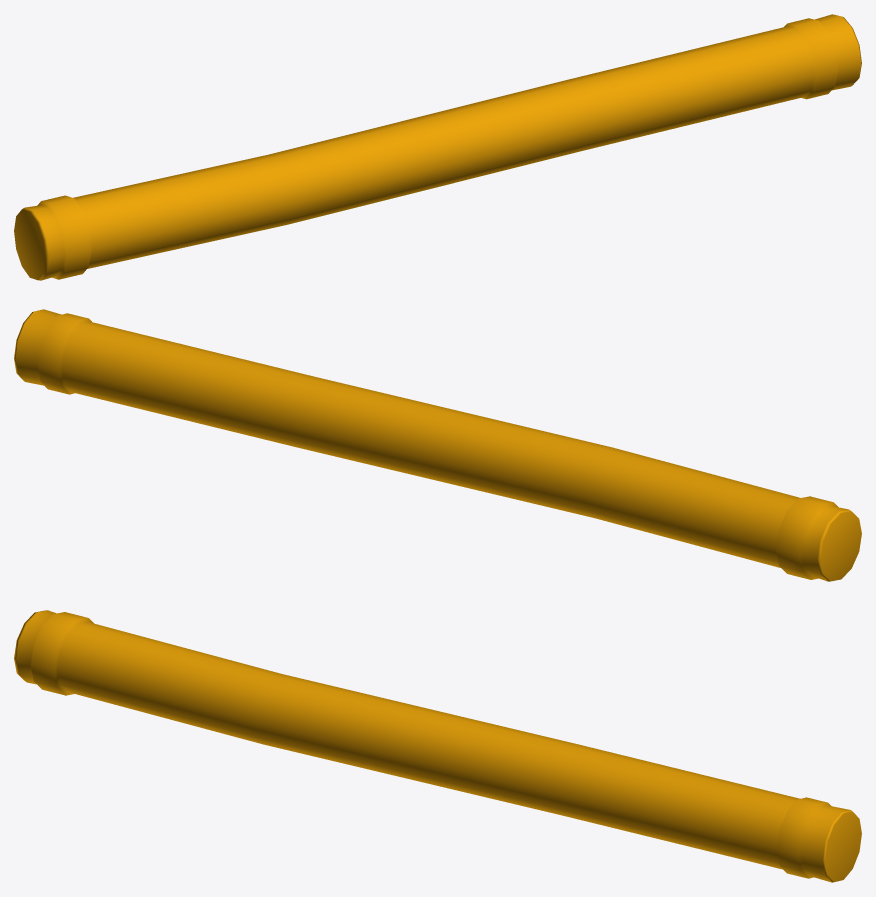
The model's file is Log_01.fbx.
3 renders of one model, top to bottom at view 1: azimuth 30°, elevation 25°; view 2: azimuth 150°, elevation 25°; view 3: azimuth 330°, elevation 25°, orthographic.
Visible parts, largest first — view 1: Log_01; view 2: Log_01; view 3: Log_01.
Part boxes in pixels (x1,y1,x2,y2): Log_01: [14, 14, 861, 280]; Log_01: [14, 309, 861, 581]; Log_01: [14, 610, 861, 882].
Bounding box in the file's own units: 143 × 12.3 × 13.22.
